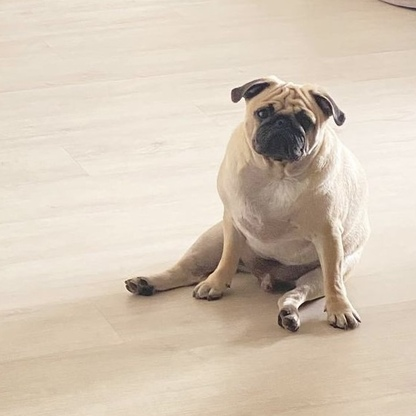Pug: (120, 70, 374, 336)
